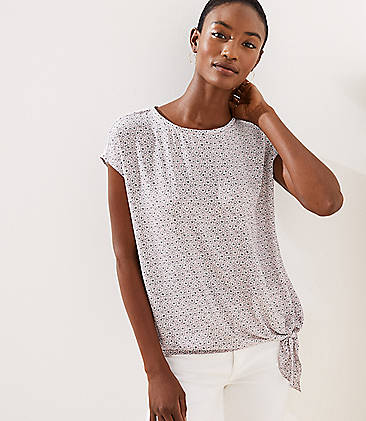C_short blouse: (100, 108, 309, 391)
